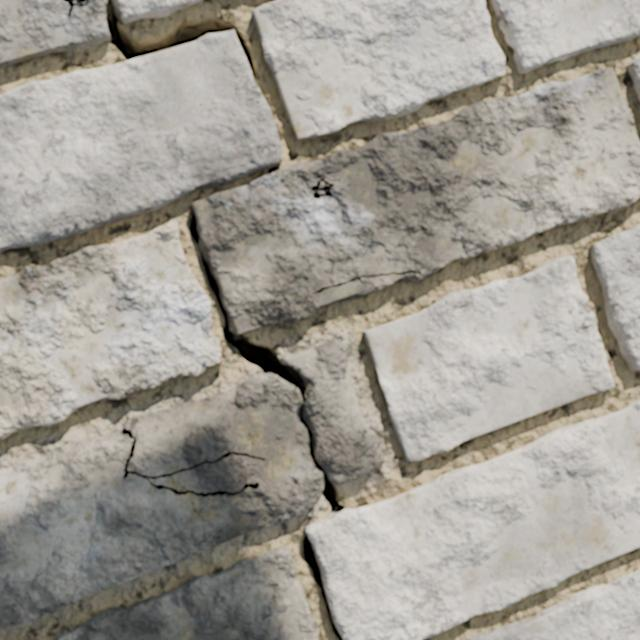broken_brick: (0, 374, 322, 628), (280, 335, 384, 485)
crack: (0, 0, 639, 639), (363, 257, 614, 461), (0, 221, 223, 438), (252, 0, 505, 141), (55, 546, 318, 639), (466, 571, 639, 639), (490, 0, 639, 73), (119, 428, 266, 496), (590, 224, 639, 370), (627, 54, 639, 100), (236, 529, 247, 534)
